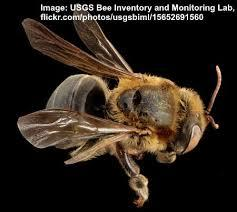Meliponula: (15, 0, 225, 205)
